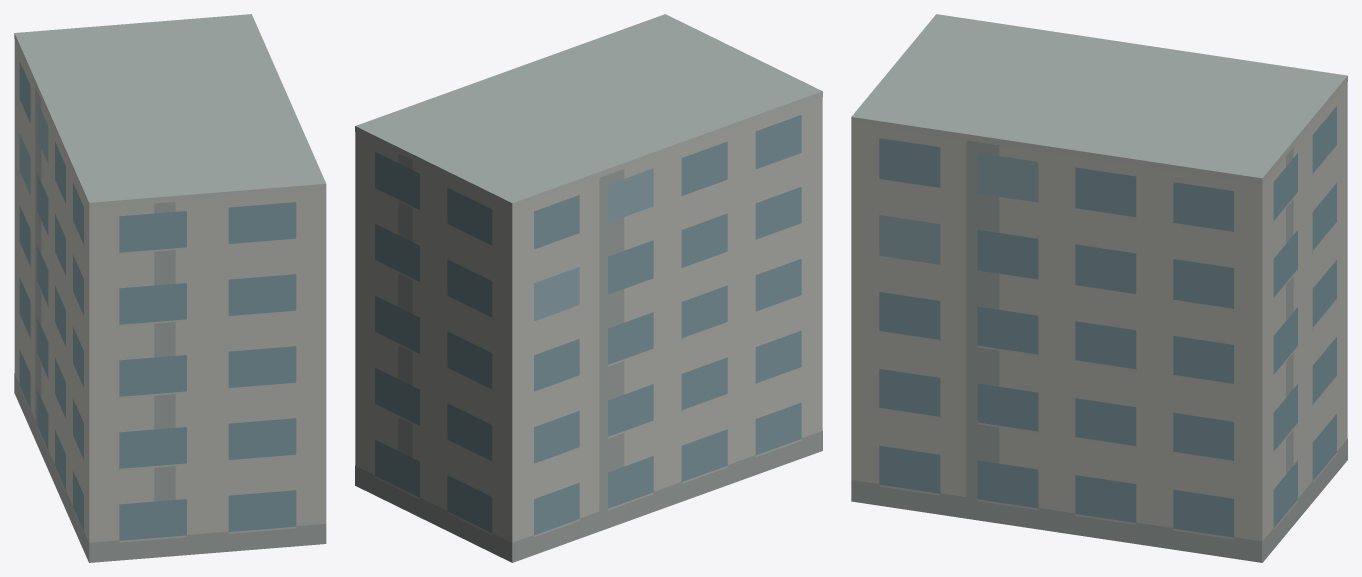
Rendered from survey-upis-32946456.glb.
The picture shows the model from 3 angles, left to right: view 1: azimuth 30°, elevation 25°; view 2: azimuth 150°, elevation 25°; view 3: azimuth 270°, elevation 25°; orthographic projection. The views are drawn at different scales.
Parts seen in each view (by area): view 1: survey-upis-32946456.tmp; view 2: survey-upis-32946456.tmp; view 3: survey-upis-32946456.tmp.
Boxes of the visible parts, box(x1,y1,x2,y2) form: survey-upis-32946456.tmp: box(14, 14, 326, 562); survey-upis-32946456.tmp: box(355, 14, 822, 562); survey-upis-32946456.tmp: box(851, 14, 1347, 562).
Bounding box in the file's own units: 13.34 × 14.54 × 17.02.
